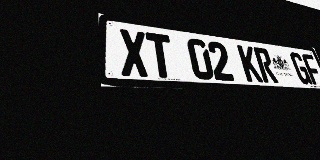0: (186, 38, 215, 80)
2: (206, 40, 234, 81)
F: (301, 53, 320, 85)
G: (289, 52, 313, 85)
K: (237, 45, 263, 82)
R: (253, 47, 279, 83)
T: (145, 32, 176, 78)
X: (118, 28, 150, 77)
